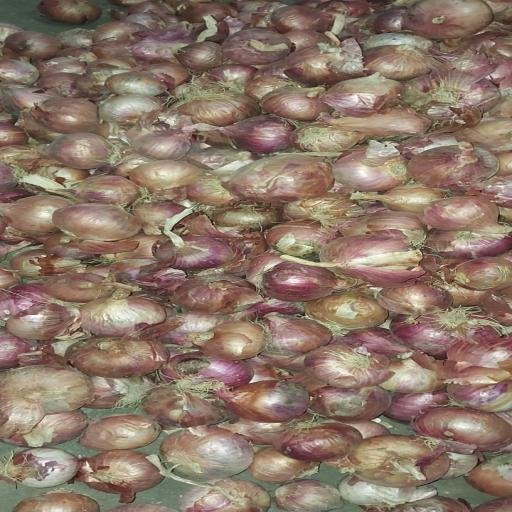damaged: (233, 382, 316, 422)
healthy: (161, 429, 261, 479), (49, 201, 148, 241), (418, 407, 512, 444)
